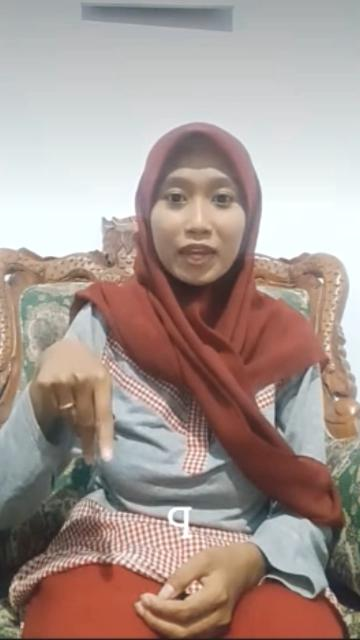P: (26, 337, 124, 469)
